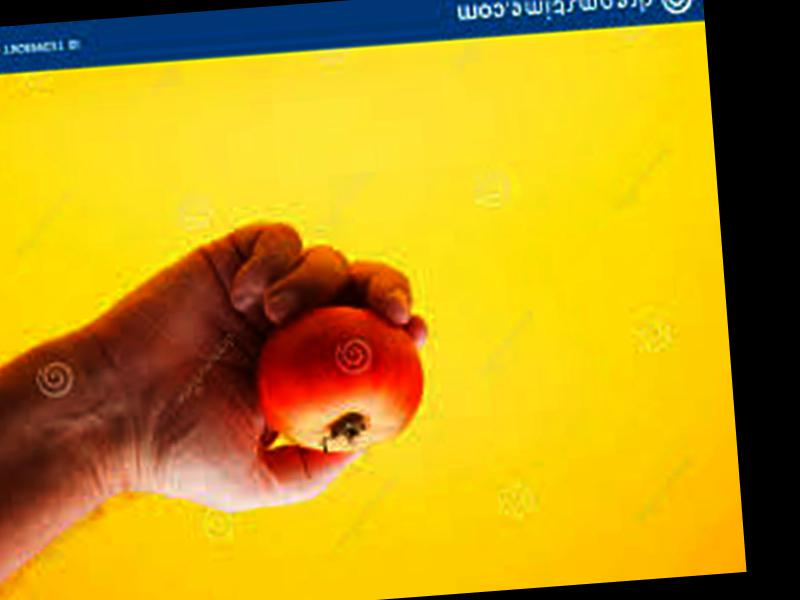Tomato: (252, 300, 426, 456)
